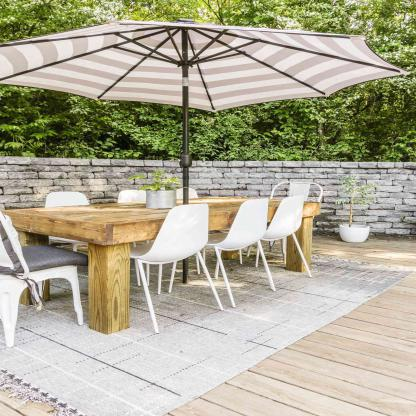table: (0, 192, 325, 335)
